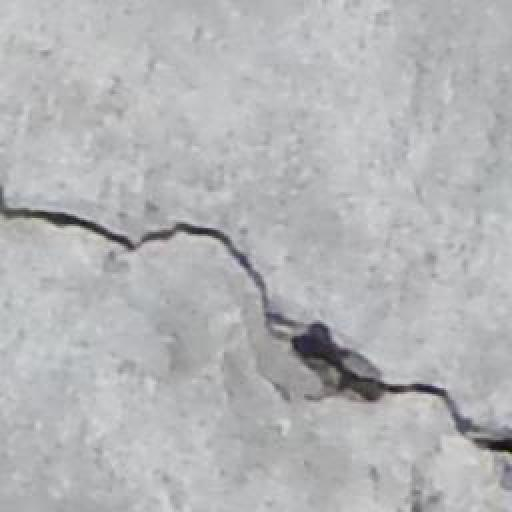spalling: (0, 186, 508, 471)
